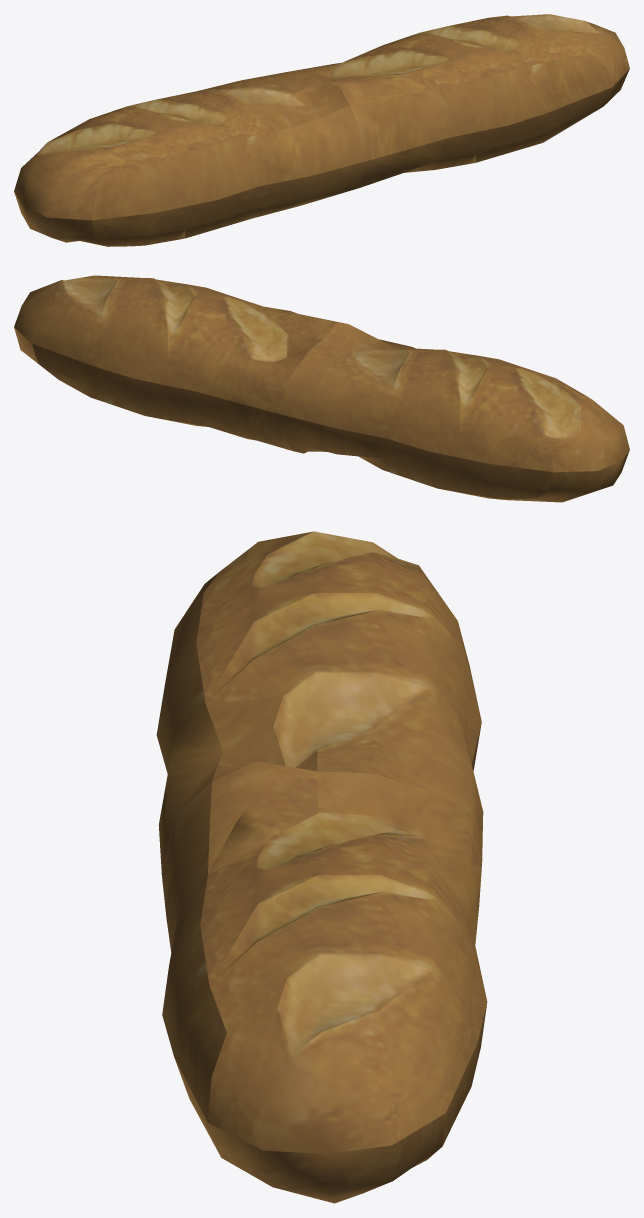
Rendered from bread.obj.
3 views of the same model, one above another, from view 1: azimuth 30°, elevation 25°; view 2: azimuth 150°, elevation 25°; view 3: azimuth 270°, elevation 25° (orthographic). The views are drawn at different scales.
Parts seen in each view (by area): view 1: submesh_0_submesh_0.002; view 2: submesh_0_submesh_0.002; view 3: submesh_0_submesh_0.002.
Part boxes in pixels (left/top/right/bottom): submesh_0_submesh_0.002: left=14, top=14, right=629, bottom=246; submesh_0_submesh_0.002: left=14, top=275, right=629, bottom=502; submesh_0_submesh_0.002: left=156, top=531, right=487, bottom=1203.
Size of the model in its own units: 1.2 by 0.231 by 0.2896.
Materials: 1 (1 with a texture image).
